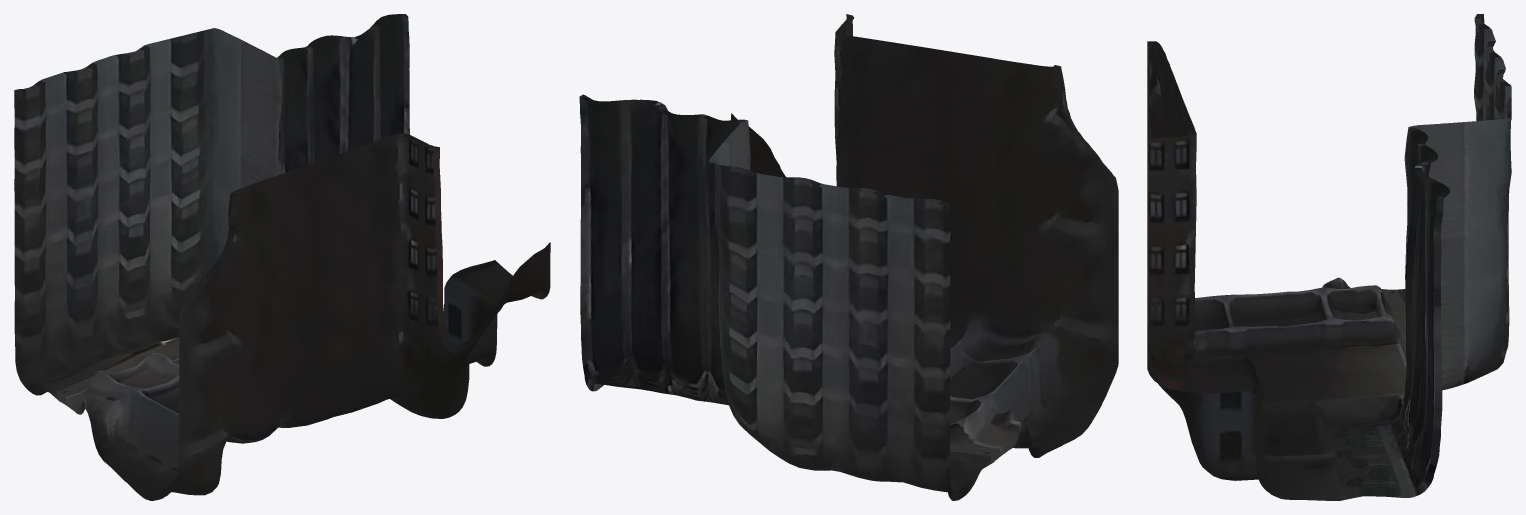
File: z20-167745-405249-h0-yup-uvflip-v3-world.glb
The picture shows the model from 3 angles, left to right: view 1: azimuth 30°, elevation 25°; view 2: azimuth 150°, elevation 25°; view 3: azimuth 270°, elevation 25°; orthographic projection. The views are drawn at different scales.
Size of the model in its own units: 30.2 by 24.36 by 25.16.
Materials: 1 (1 with a texture image).
